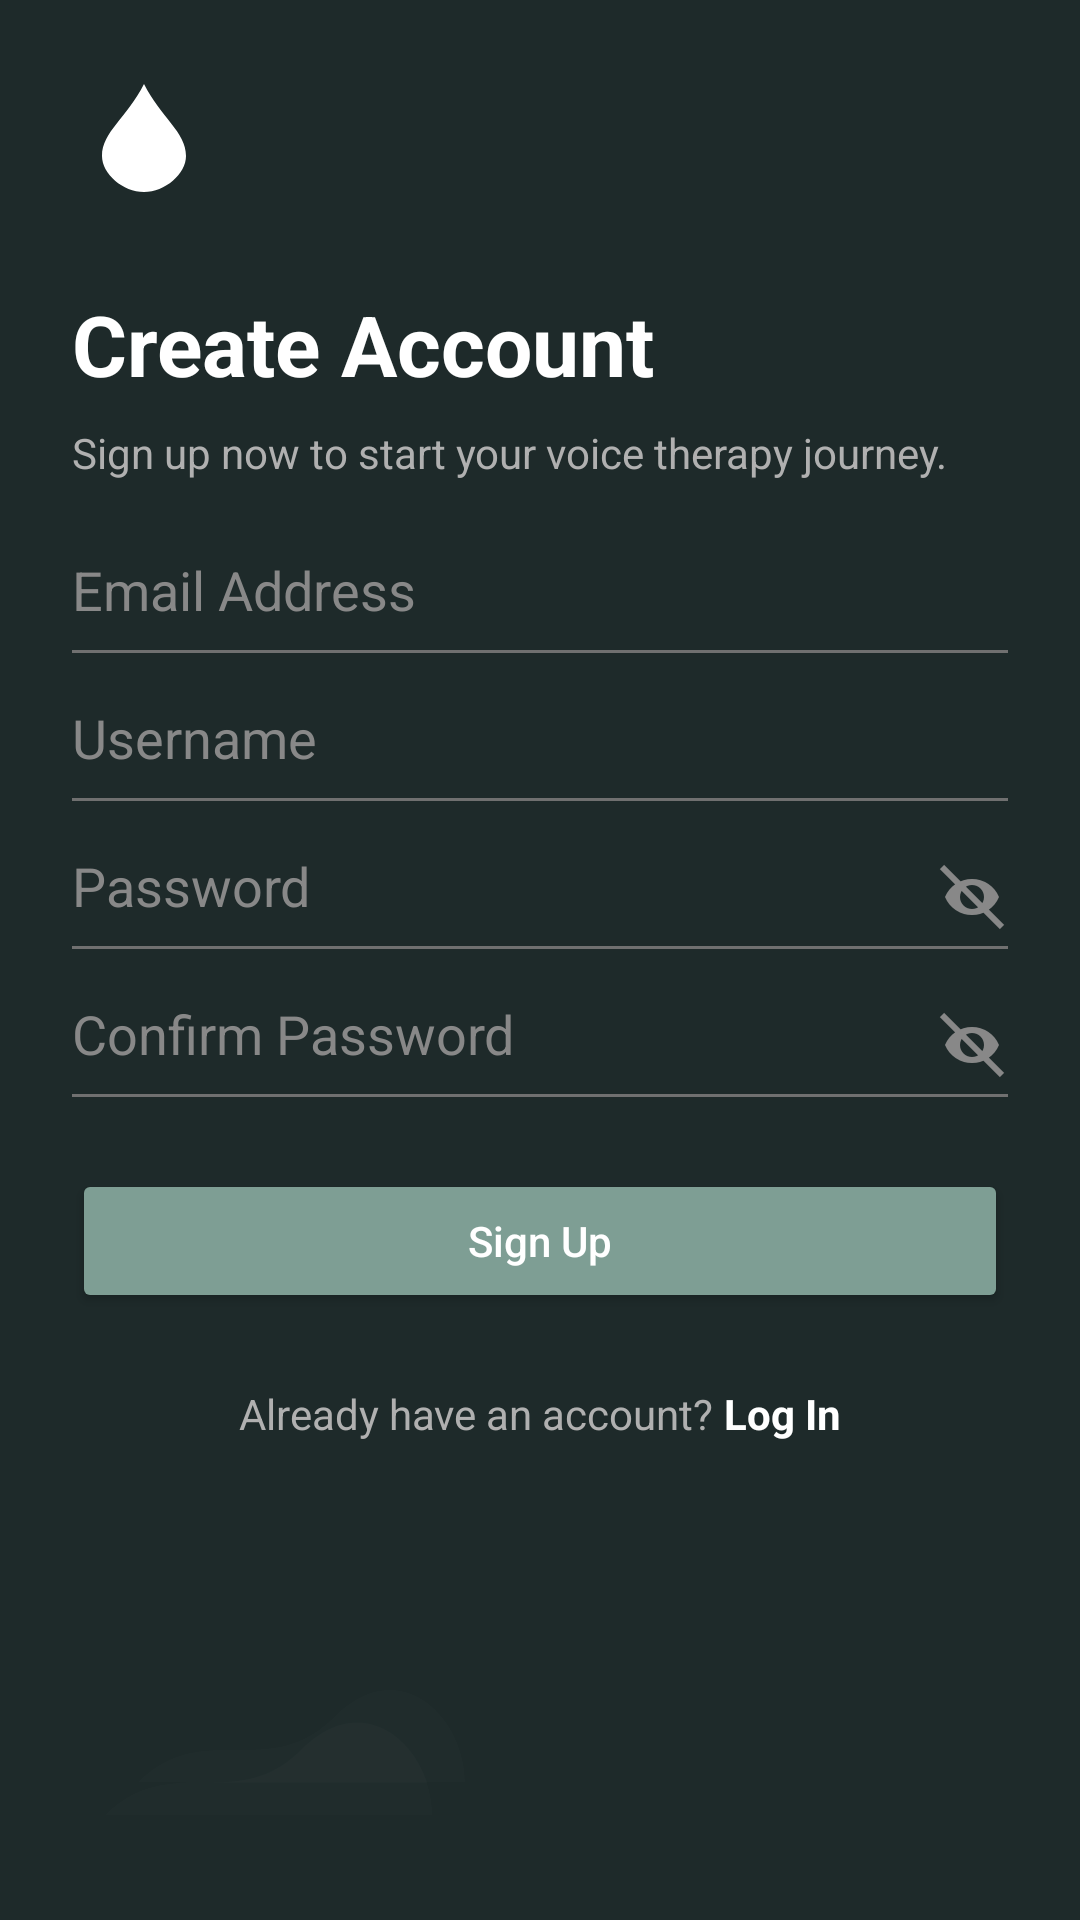

Where to tap for icons on this 1080w x 1920h app screen, as point (x, y):
Afficher ou masquer le mot de passe: point (972, 897)
Afficher ou masquer le mot de passe de confirmation: point (972, 1045)
